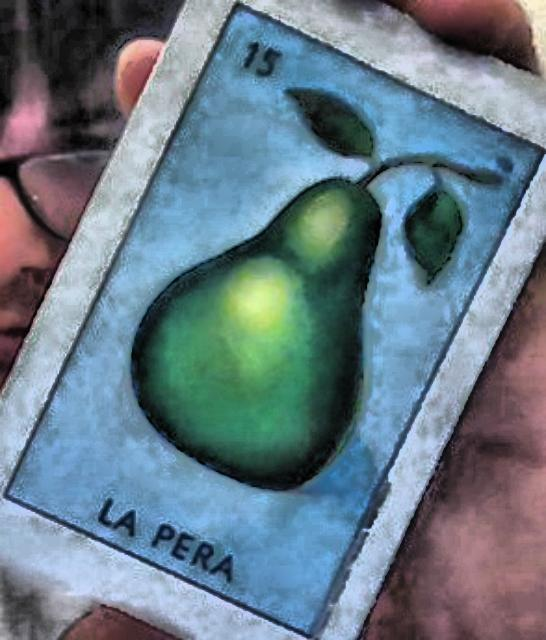La Pera: (1, 3, 545, 638)
